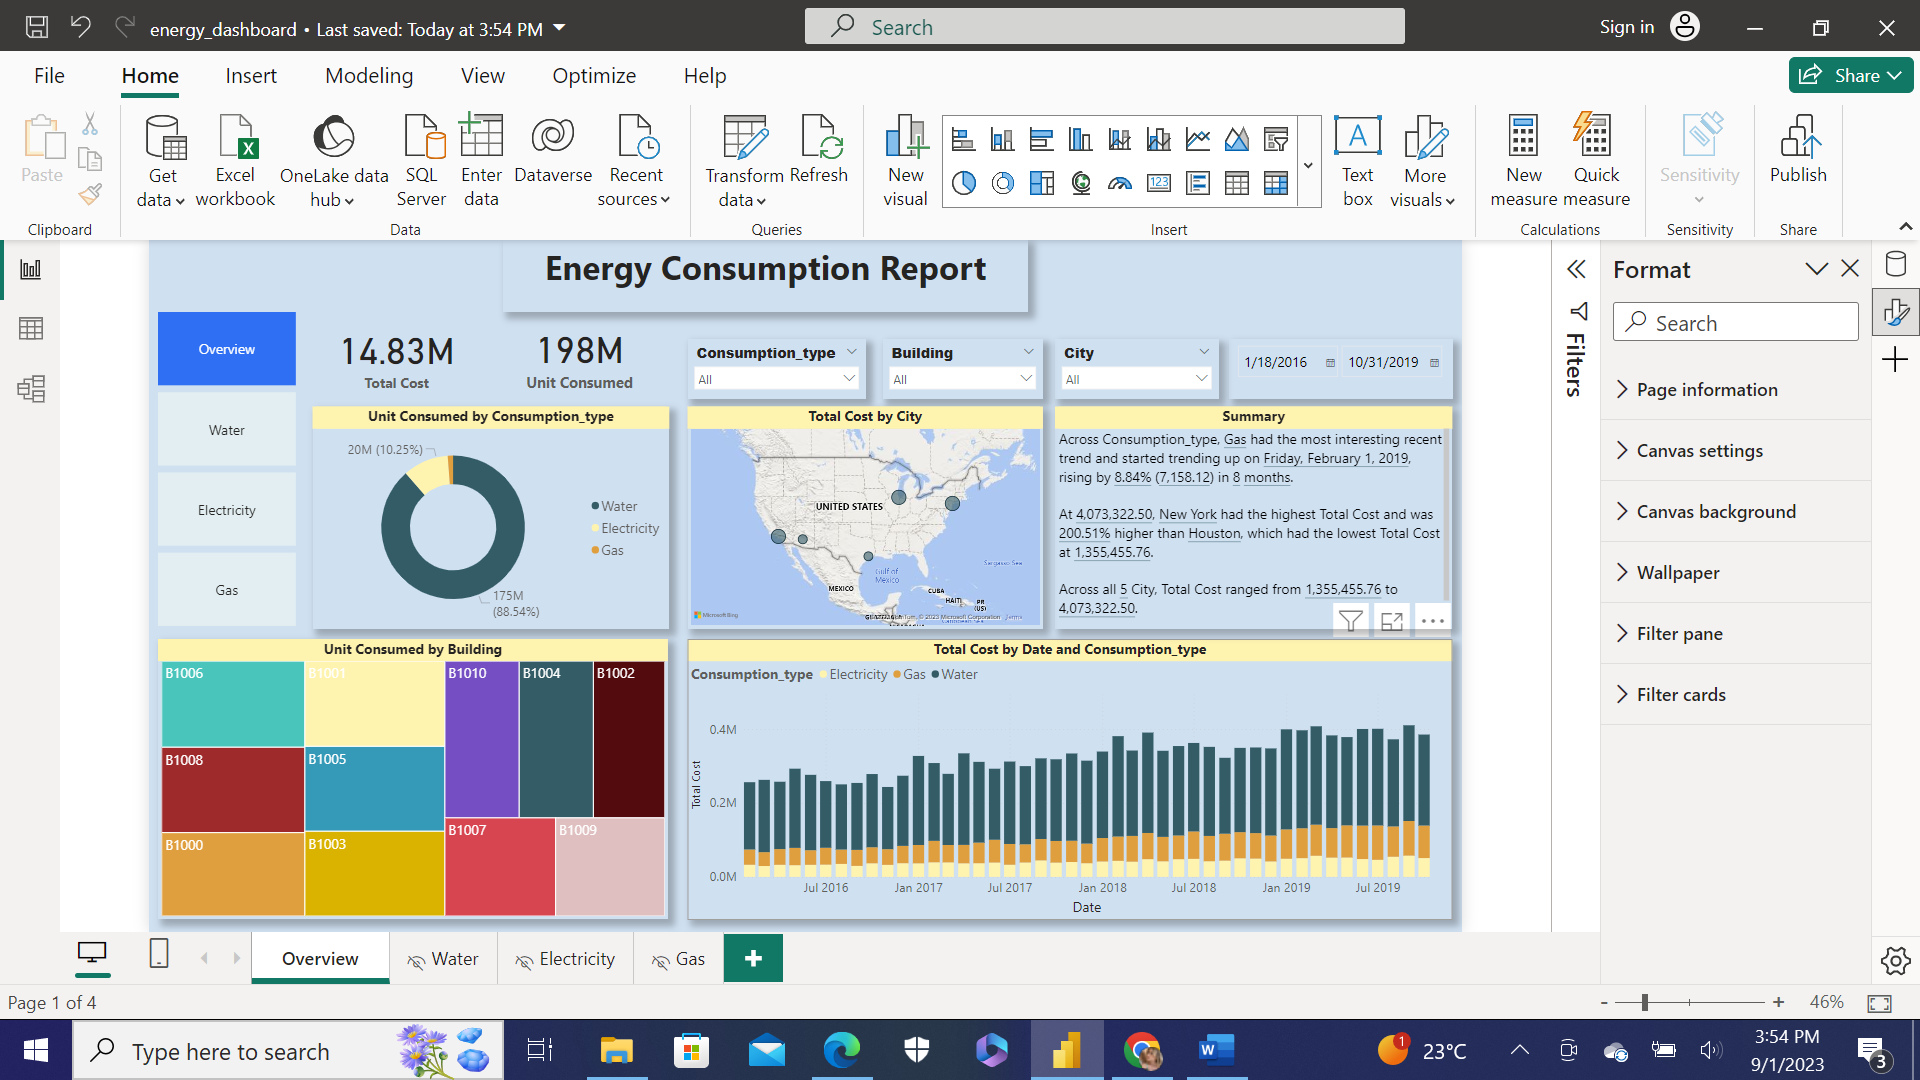

What the dashboard file says about the page in this screenshot:
{"tool":"powerbi","page":{"name":"Overview","canvas":[1900,1000],"ordinal":0},"visuals":[{"type":"actionButton","title":"Energy Consumption Report","box":[511.9,0,759.2,104.1],"z":0},{"type":"card","fields":{"Values":["Energy Consumptions.Total Cost"]},"box":[236.4,104.1,243,123.6],"z":1000},{"type":"card","fields":{"Values":["Energy Consumptions.Unit Consumed"]},"box":[494.6,104.1,256,123.6],"z":2000},{"type":"slicer","fields":{"Values":["Energy Consumptions.Consumption_type"]},"box":[778.7,143.2,258.1,86.8],"z":3000},{"type":"slicer","fields":{"Values":["Energy Consumptions.Building"]},"box":[1060.7,143.2,232.1,86.8],"z":4000},{"type":"slicer","fields":{"Values":["Building Master.City"]},"box":[1310.2,143.2,236.4,86.8],"z":5000},{"type":"slicer","fields":{"Values":["Energy Consumptions.Date"]},"box":[1561.8,143.2,323.2,86.8],"z":6000},{"type":"map","fields":{"Category":["Building Master.City"],"Size":["Energy Consumptions.Total Cost"]},"box":[778.7,240.8,514.1,321],"z":7000},{"type":"columnChart","fields":{"Y":["Energy Consumptions.Total Cost"],"Series":["Energy Consumptions.Consumption_type"],"Category":["Energy Consumptions.Date"]},"box":[778.7,577,1106.3,405.6],"z":8000},{"type":"textbox","title":"Summary","box":[1310.2,240.8,574.8,321],"z":9000},{"type":"donutChart","fields":{"Y":["Energy Consumptions.Unit Consumed"],"Category":["Energy Consumptions.Consumption_type"]},"box":[236,240,516,322],"z":10000},{"type":"treemap","fields":{"Values":["Energy Consumptions.Unit Consumed"],"Group":["Energy Consumptions.Building"]},"box":[13,577,737.5,405.6],"z":11000},{"type":"shape","box":[13,80.3,223.4,481.6],"z":12000},{"type":"pageNavigator","box":[13,104.1,199.6,457.7],"z":13000}]}

Visuals, with their boxes on the page's 1900x1000 design canvas (x1, y1, x2, y2). These are canvas units, not pixel positions in the 1920x1080 screenshot, which may show the page scaled, cropped or inside an application window:
"Energy Consumption Report" actionButton: rect(512, 0, 1271, 104)
card - Energy Consumptions.Total Cost: rect(236, 104, 479, 228)
card - Energy Consumptions.Unit Consumed: rect(495, 104, 751, 228)
slicer - Energy Consumptions.Consumption_type: rect(779, 143, 1037, 230)
slicer - Energy Consumptions.Building: rect(1061, 143, 1293, 230)
slicer - Building Master.City: rect(1310, 143, 1547, 230)
slicer - Energy Consumptions.Date: rect(1562, 143, 1885, 230)
map - Building Master.City x Energy Consumptions.Total Cost: rect(779, 241, 1293, 562)
columnChart - Energy Consumptions.Total Cost x Energy Consumptions.Consumption_type: rect(779, 577, 1885, 983)
"Summary" textbox: rect(1310, 241, 1885, 562)
donutChart - Energy Consumptions.Unit Consumed x Energy Consumptions.Consumption_type: rect(236, 240, 752, 562)
treemap - Energy Consumptions.Unit Consumed x Energy Consumptions.Building: rect(13, 577, 750, 983)
shape: rect(13, 80, 236, 562)
pageNavigator: rect(13, 104, 213, 562)
